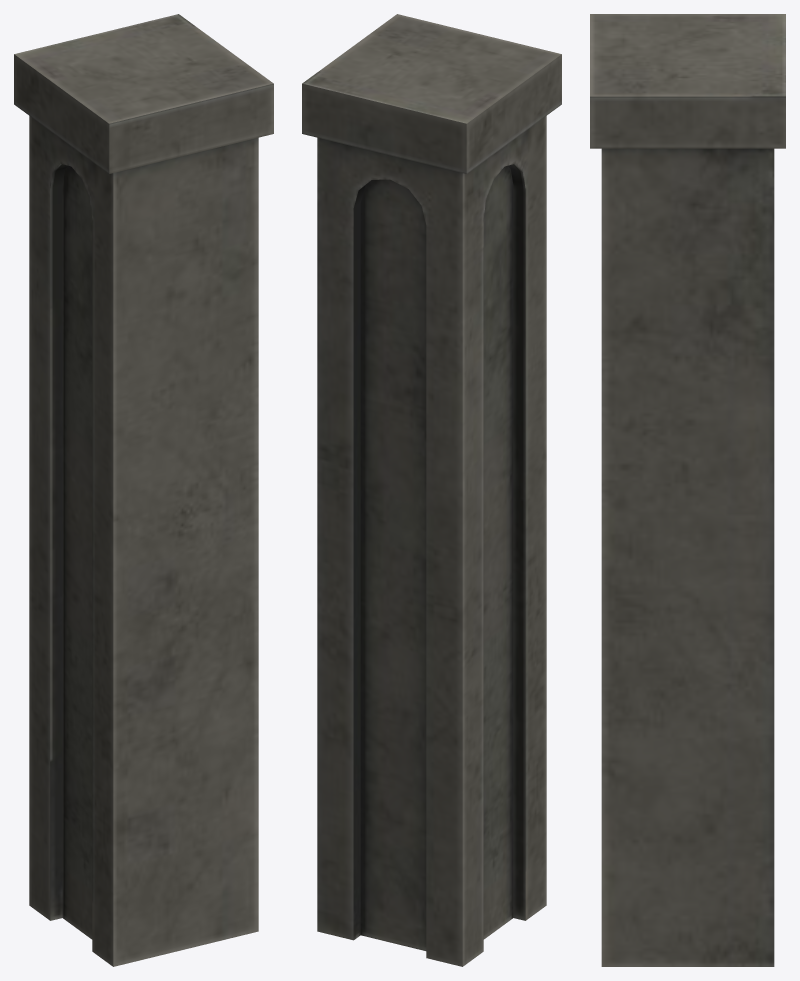
File: SM_Column1.fbx
The picture shows the model from 3 angles, left to right: view 1: azimuth 30°, elevation 25°; view 2: azimuth 150°, elevation 25°; view 3: azimuth 270°, elevation 25°; orthographic projection. The views are drawn at different scales.
Visible parts, largest first — view 1: SM_Column1; view 2: SM_Column1; view 3: SM_Column1.
Boxes of the visible parts, x1,y1,x2,y2 form: SM_Column1: [14, 14, 273, 966]; SM_Column1: [302, 14, 561, 966]; SM_Column1: [590, 14, 785, 966].
Bounding box in the file's own units: 50.14 × 50.14 × 247.
